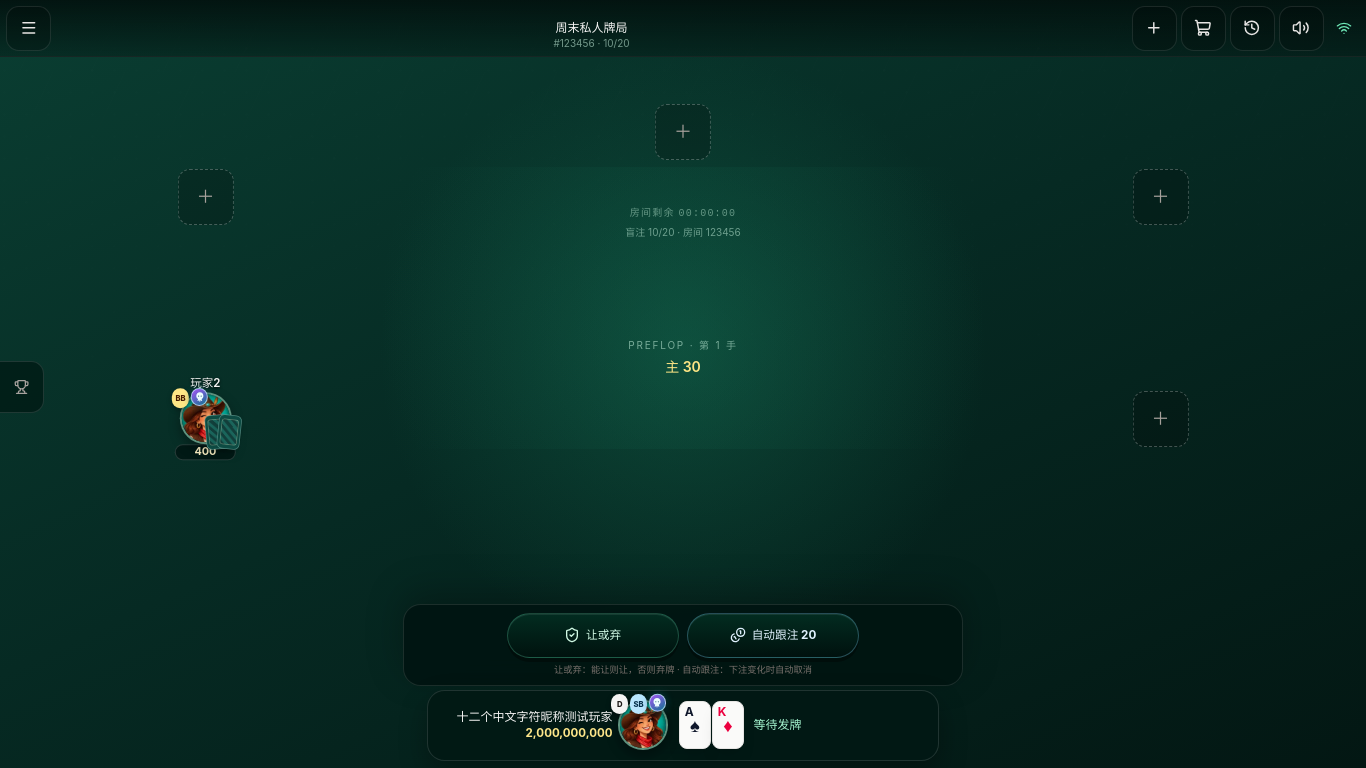
Scenario: stand and spectator lifecycle › requires fresh consent when a marked squid player becomes unmarked during a stale stand
Click the button named "打开牌桌菜单": (29, 28) [6,6,51,51]
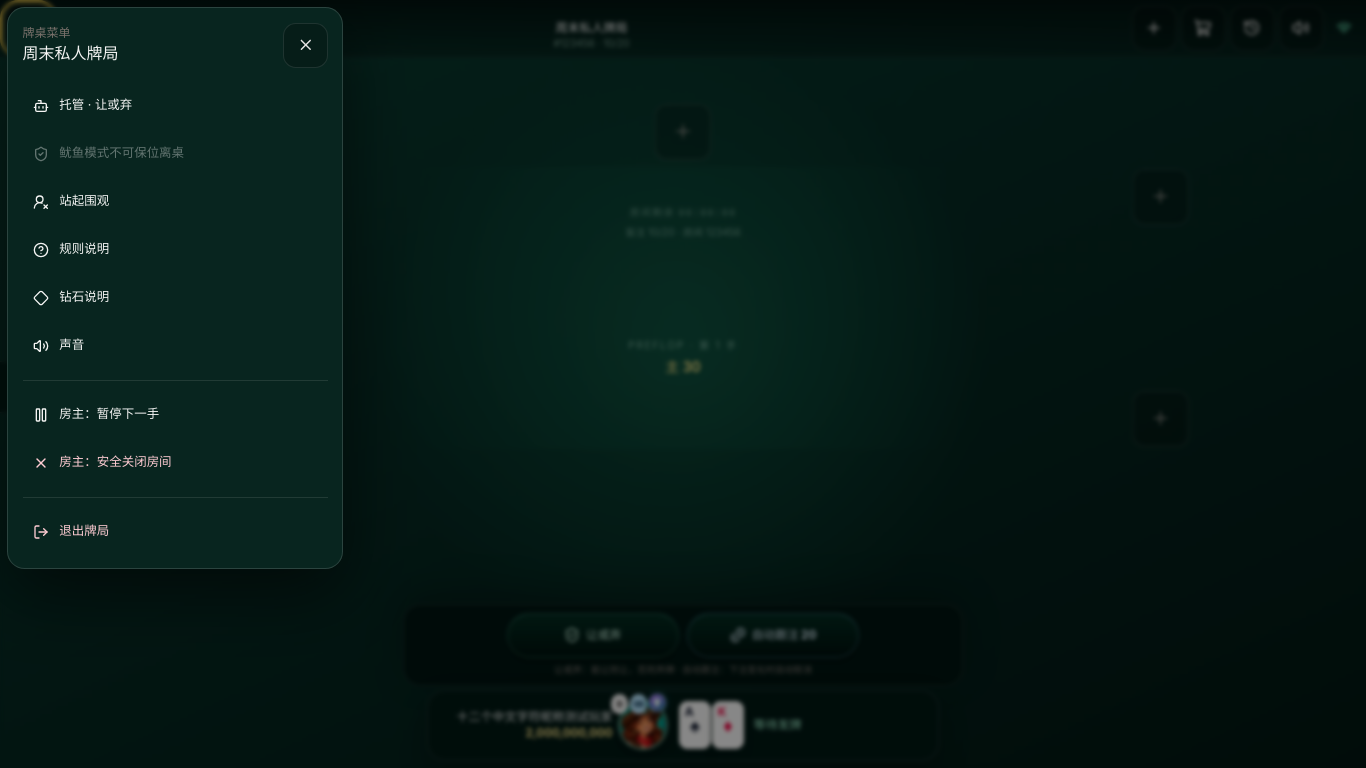
Click the button "站起围观": (84, 201) [23,180,328,224]
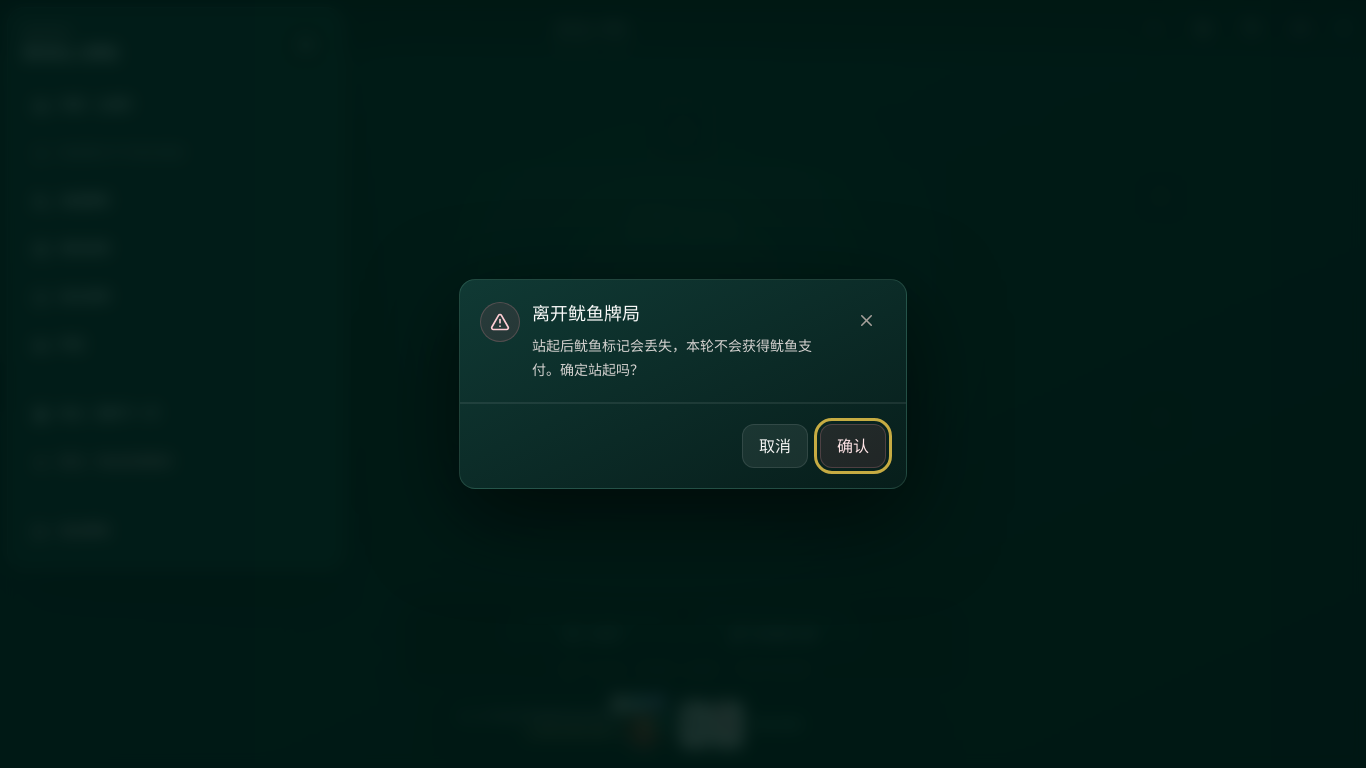
Click the button "确认": (853, 446) [820,424,886,468]
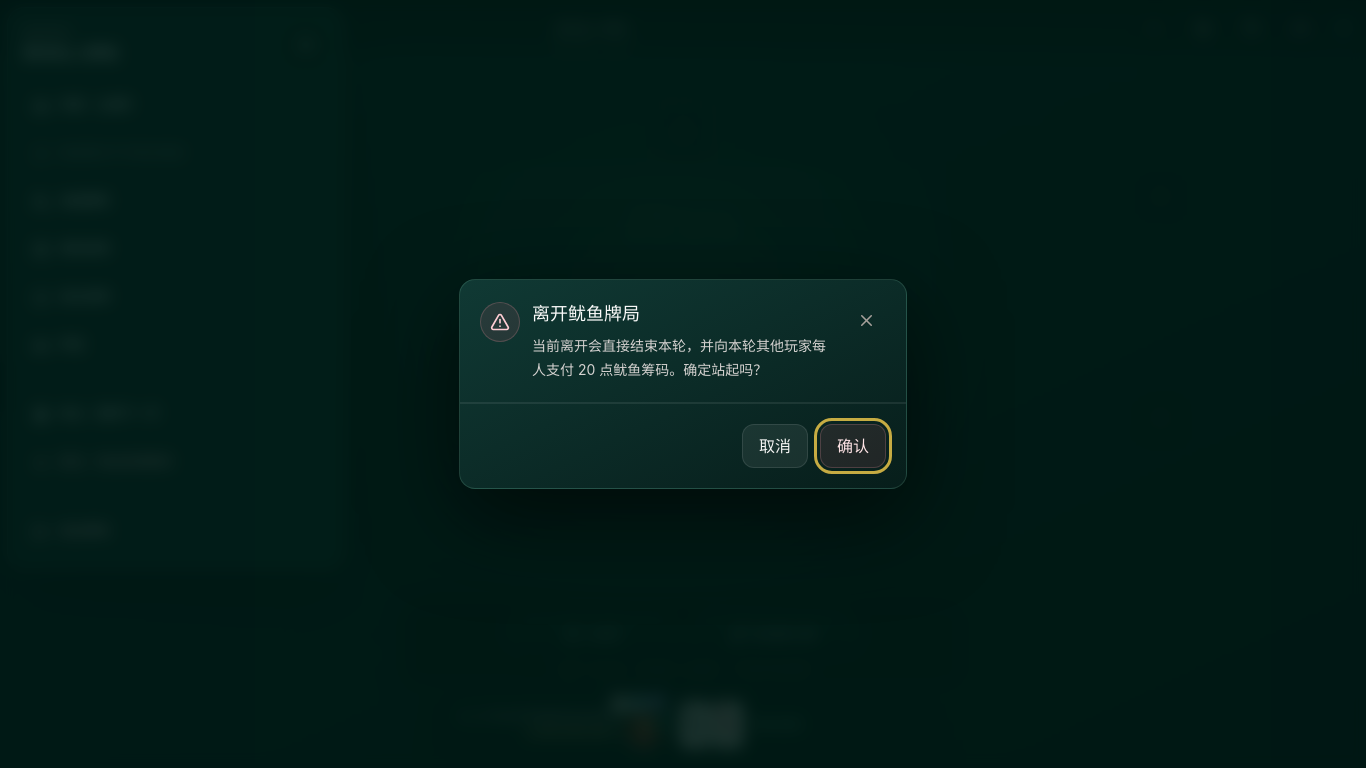
Expected: the element with test id "hero-hand" is shown, [427,690,939,761]
Now the dialog "离开鱿鱼牌局" shows "每人支付 20 点", box [532,337,826,378]
